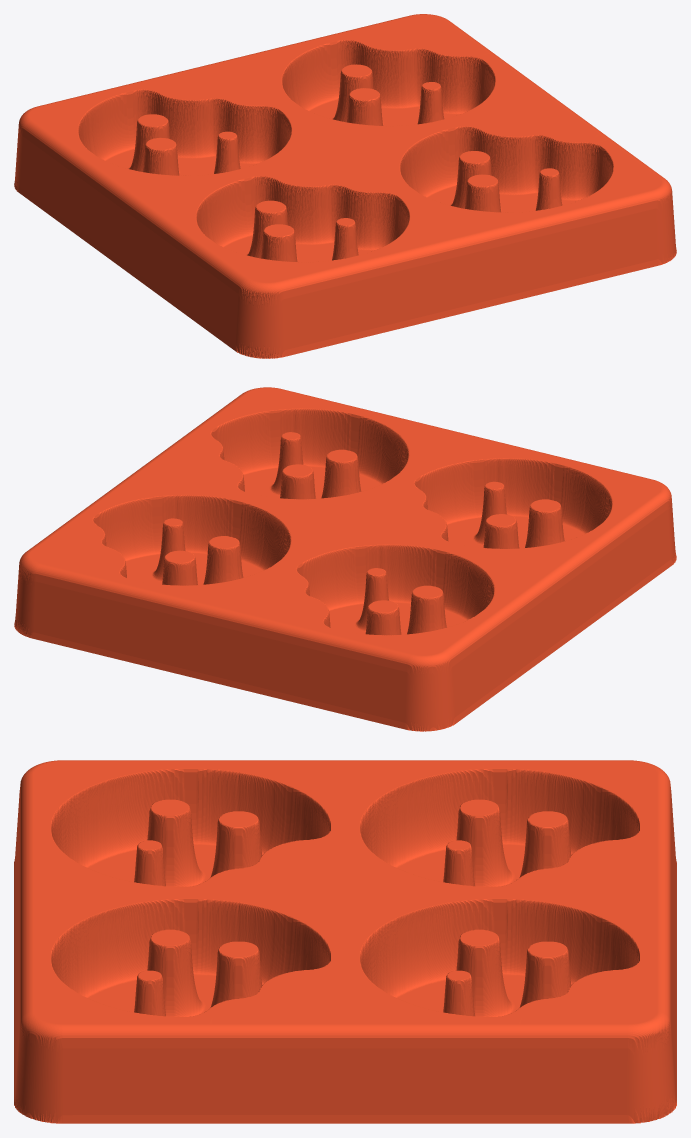
The model's file is mold.glb.
3 views of the same model, one above another, from view 1: azimuth 30°, elevation 25°; view 2: azimuth 150°, elevation 25°; view 3: azimuth 270°, elevation 25° (orthographic). The views are drawn at different scales.
Parts seen in each view (by area): view 1: geometry_0; view 2: geometry_0; view 3: geometry_0.
Boxes of the visible parts, bbox=[...] form: geometry_0: bbox=[14, 14, 676, 358]; geometry_0: bbox=[14, 387, 676, 731]; geometry_0: bbox=[14, 760, 676, 1123].
Bounding box in the file's own units: 0.1214 × 0.0185 × 0.1218.
